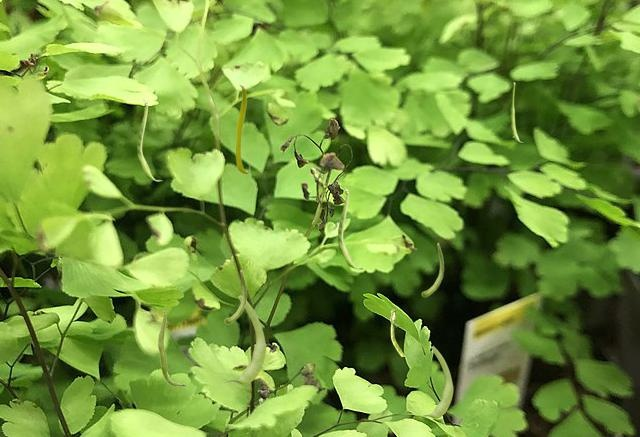french_bean: (223, 294, 265, 383), (419, 345, 452, 417), (157, 310, 186, 386), (338, 187, 362, 268), (137, 99, 161, 180), (235, 84, 249, 173), (421, 242, 443, 296), (224, 269, 246, 323), (510, 82, 522, 141), (390, 309, 404, 355)
